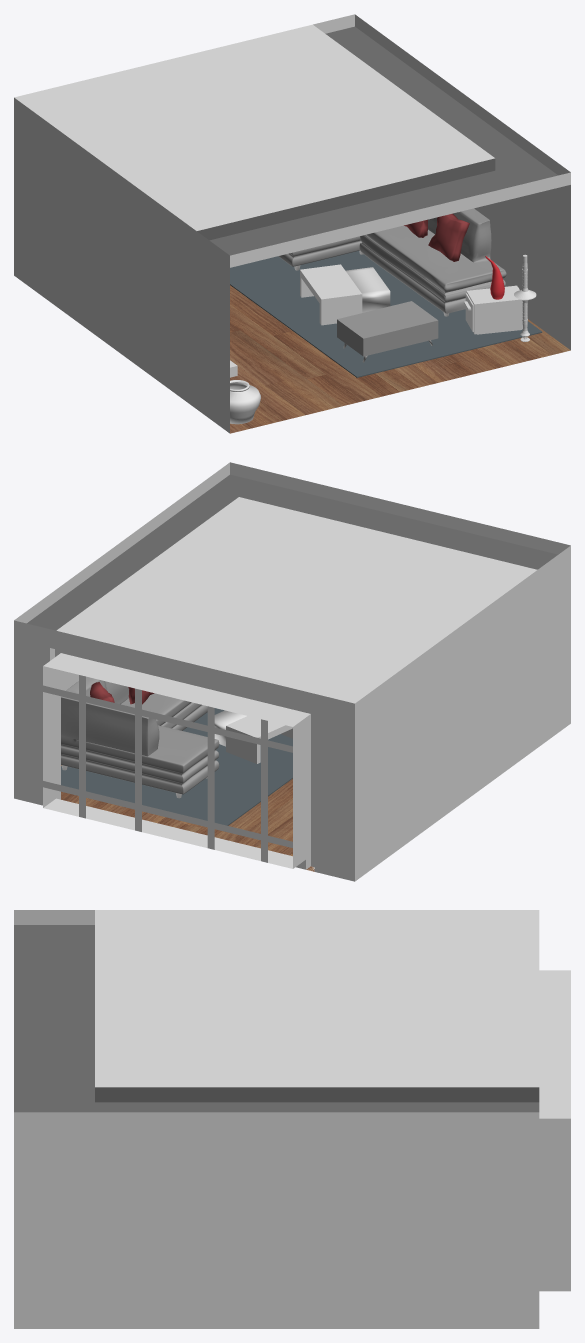
File: room1.glb
3 views of the same model, one above another, from view 1: azimuth 30°, elevation 25°; view 2: azimuth 150°, elevation 25°; view 3: azimuth 270°, elevation 25° (orthographic). The views are drawn at different scales.
Parts seen in each view (by area): view 1: Plane, Plane.001, Cube.001, Cube.005, Cube.009, Cube.004, Cube.008, Cube, Cylinder, Cube.006, Cylinder.005; view 2: Plane, Cube.001, Plane.001, Cube.009; view 3: Plane.
Boxes of the visible parts, x1=… form: Plane: x1=14, y1=14, x2=570, y2=433; Plane.001: x1=230, y1=251, x2=542, y2=377; Cube.001: x1=278, y1=208, x2=506, y2=316; Cube.005: x1=337, y1=301, x2=438, y2=346; Cube.009: x1=300, y1=264, x2=362, y2=325; Cube.004: x1=464, y1=285, x2=522, y2=334; Cube.008: x1=346, y1=267, x2=390, y2=312; Cube: x1=428, y1=213, x2=469, y2=261; Cylinder: x1=230, y1=380, x2=260, y2=424; Cube.006: x1=337, y1=327, x2=438, y2=353; Cylinder.005: x1=514, y1=254, x2=536, y2=336; Plane: x1=14, y1=462, x2=570, y2=881; Cube.001: x1=61, y1=676, x2=219, y2=798; Plane.001: x1=61, y1=708, x2=292, y2=825; Cube.009: x1=226, y1=716, x2=292, y2=763; Plane: x1=14, y1=910, x2=570, y2=1328.
Size of the model in its own units: 23.85 by 11.96 by 27.76.
14 materials, 1 textured.
